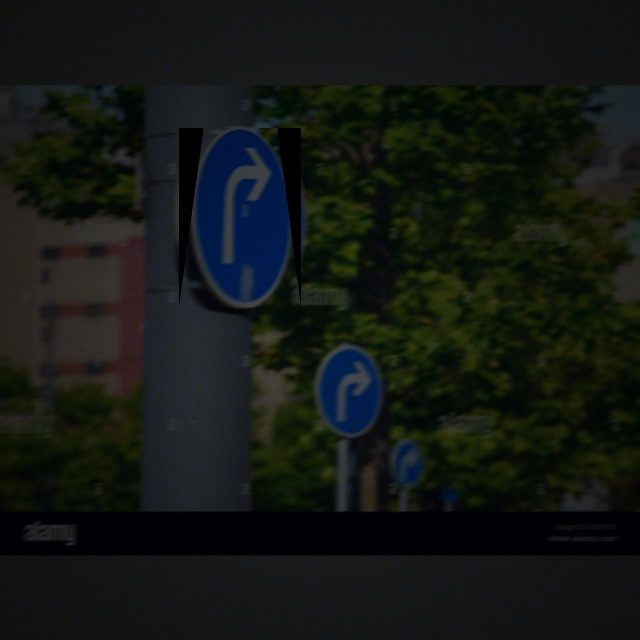Compulsory_Turn_Right_Ahead: (179, 128, 301, 307)
